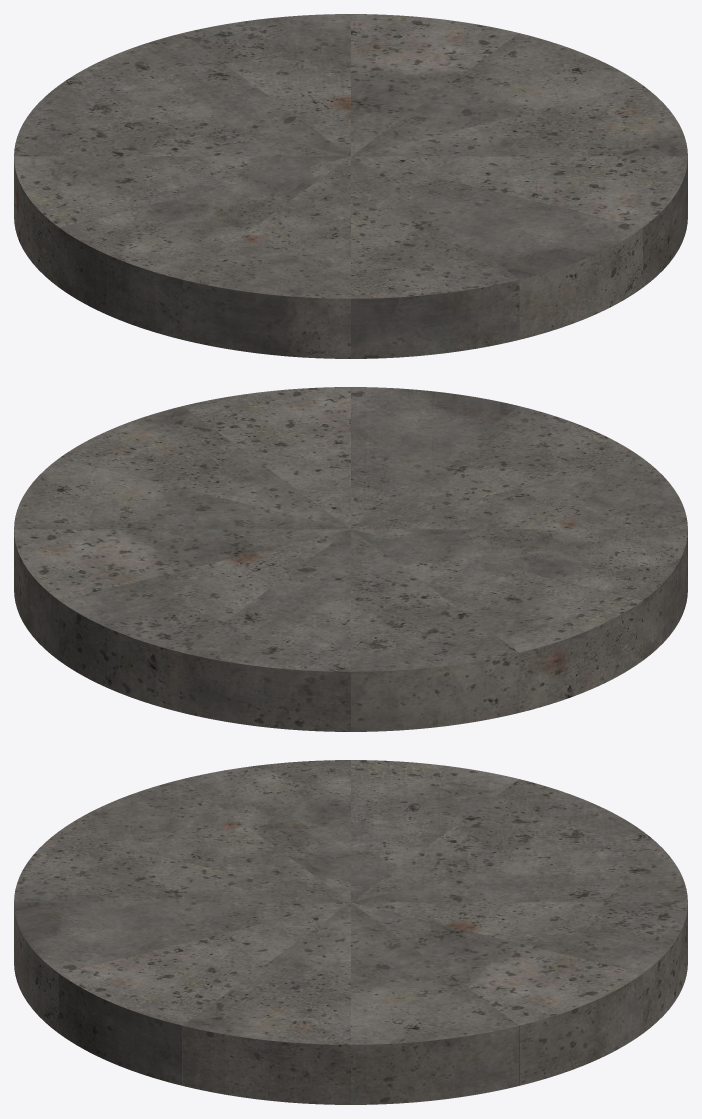
Rendered from steps.glb.
3 views of the same model, one above another, from view 1: azimuth 30°, elevation 25°; view 2: azimuth 150°, elevation 25°; view 3: azimuth 270°, elevation 25° (orthographic).
Parts seen in each view (by area): view 1: Circle4, Circle3, Circle2, Circle5, Circle1, Circle6, Circle7, Circle12, Circle11, Circle8, Circle10, Circle9; view 2: Circle11, Circle12, Circle1, Circle10, Circle9, Circle2, Circle3, Circle8, Circle4, Circle7, Circle6, Circle5; view 3: Circle7, Circle8, Circle6, Circle9, Circle10, Circle5, Circle4, Circle11, Circle12, Circle3, Circle1, Circle2.
Boxes of the visible parts, <box> form: Circle4: <box>351,156,519,358</box>; Circle3: <box>182,156,350,358</box>; Circle2: <box>59,156,350,339</box>; Circle5: <box>351,156,642,339</box>; Circle1: <box>14,156,350,287</box>; Circle6: <box>351,156,687,287</box>; Circle7: <box>352,85,687,156</box>; Circle12: <box>14,85,349,156</box>; Circle11: <box>59,33,350,156</box>; Circle8: <box>351,33,642,156</box>; Circle10: <box>183,14,350,155</box>; Circle9: <box>351,14,518,155</box>; Circle11: <box>182,529,350,731</box>; Circle12: <box>351,529,519,731</box>; Circle1: <box>351,529,642,712</box>; Circle10: <box>59,529,350,712</box>; Circle9: <box>14,529,350,660</box>; Circle2: <box>351,529,687,660</box>; Circle3: <box>352,458,687,529</box>; Circle8: <box>14,458,349,529</box>; Circle4: <box>351,406,642,529</box>; Circle7: <box>59,406,350,529</box>; Circle6: <box>183,387,350,528</box>; Circle5: <box>351,387,518,528</box>; Circle7: <box>182,902,350,1104</box>; Circle8: <box>351,902,519,1104</box>; Circle6: <box>59,902,350,1085</box>; Circle9: <box>351,902,642,1085</box>; Circle10: <box>351,902,687,1033</box>; Circle5: <box>14,902,350,1033</box>; Circle4: <box>14,831,349,902</box>; Circle11: <box>352,831,687,902</box>; Circle12: <box>351,779,642,902</box>; Circle3: <box>59,779,350,902</box>; Circle1: <box>351,760,518,901</box>; Circle2: <box>183,760,350,901</box>.
Bounding box in the file's own units: 5.08 × 0.5005 × 5.08.
Materials: 1 (1 with a texture image).
